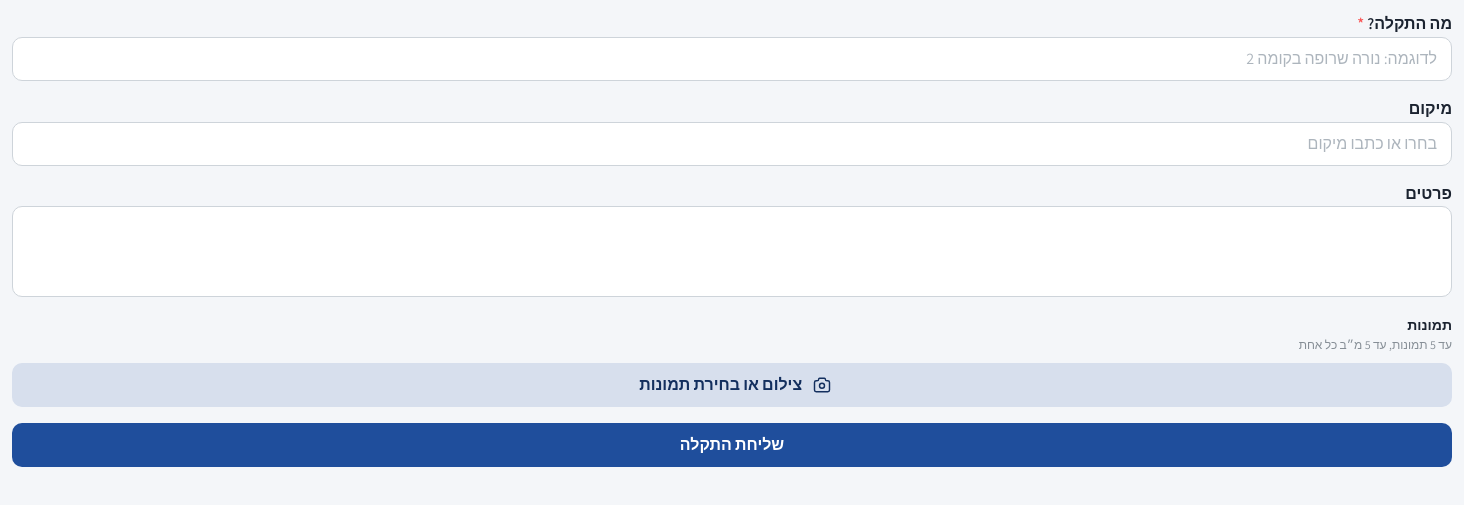
TicketForm › requires a title
Click the button "שליחת התקלה".
click(732, 445)  # box [12,423,1452,467]
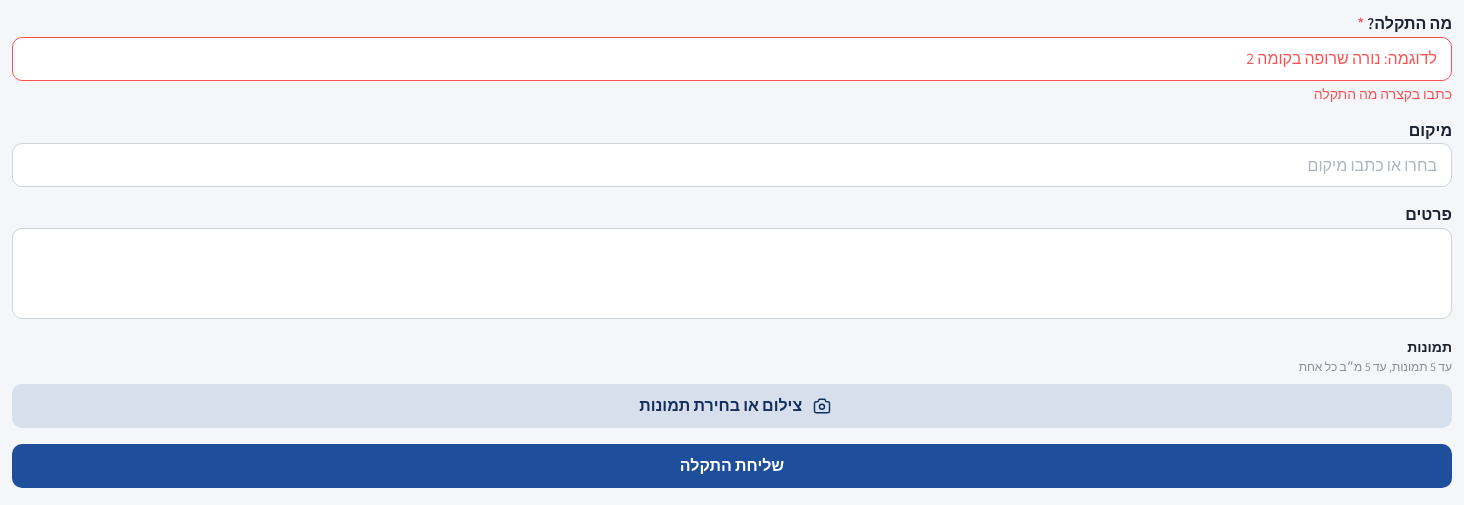
Expected: the text "כתבו בקצרה מה התקלה" is shown, [1314,85,1452,103]
